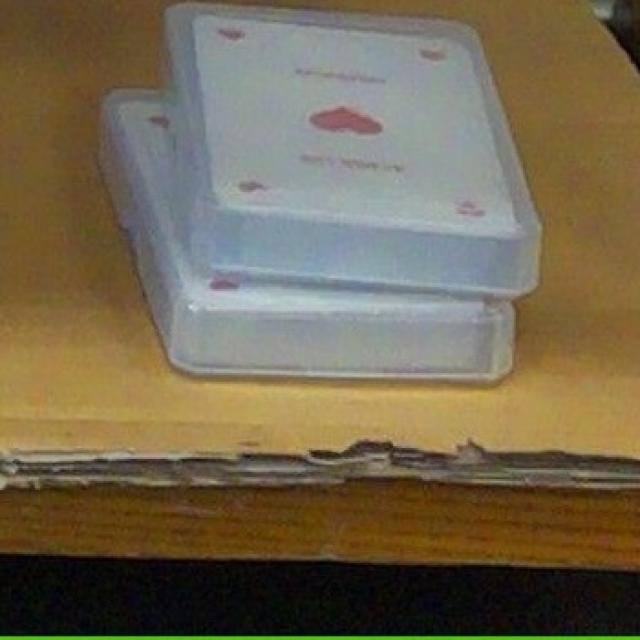Jasskarte: (102, 90, 514, 380), (165, 5, 541, 296)
